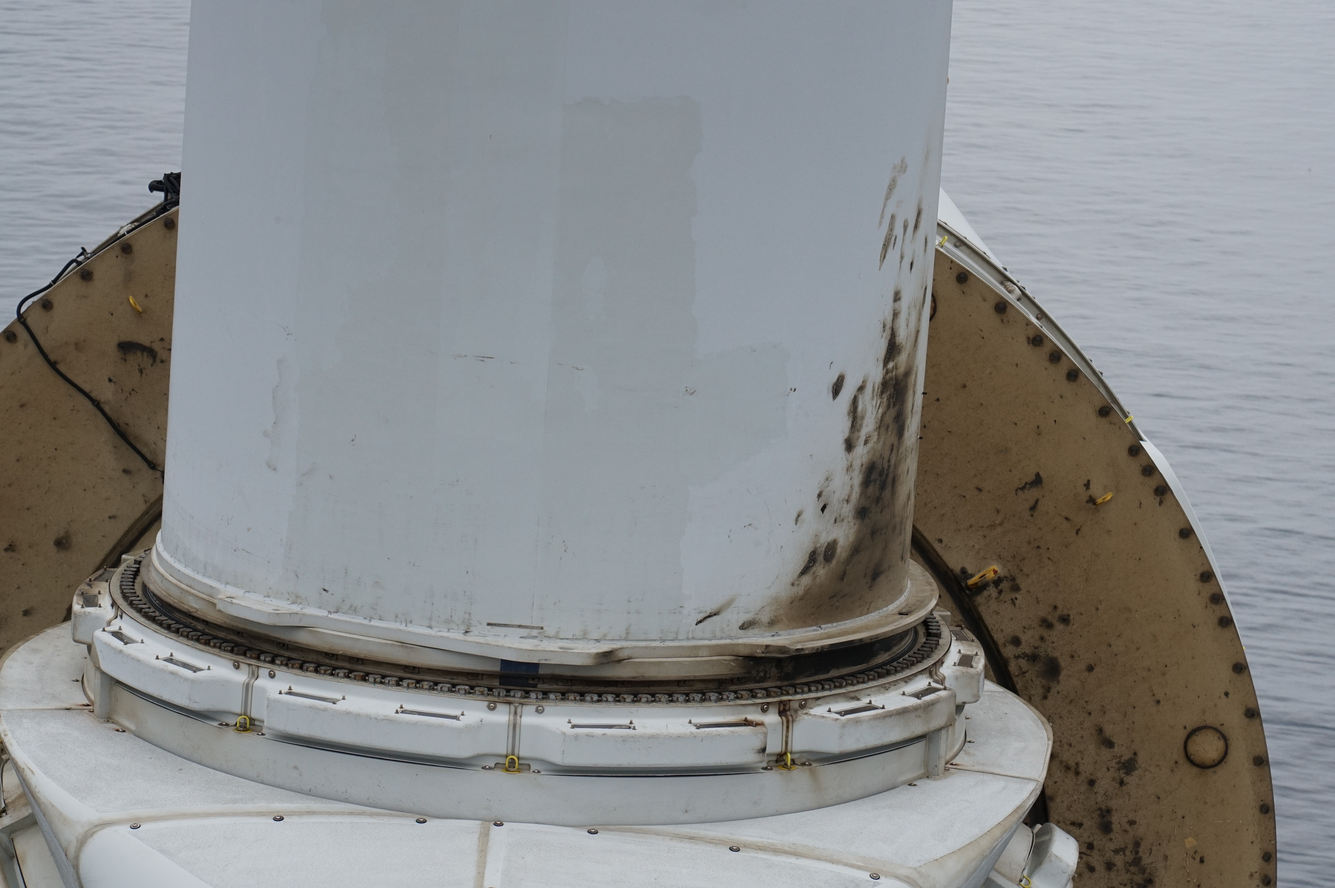Dirt: (735, 278, 931, 633)
